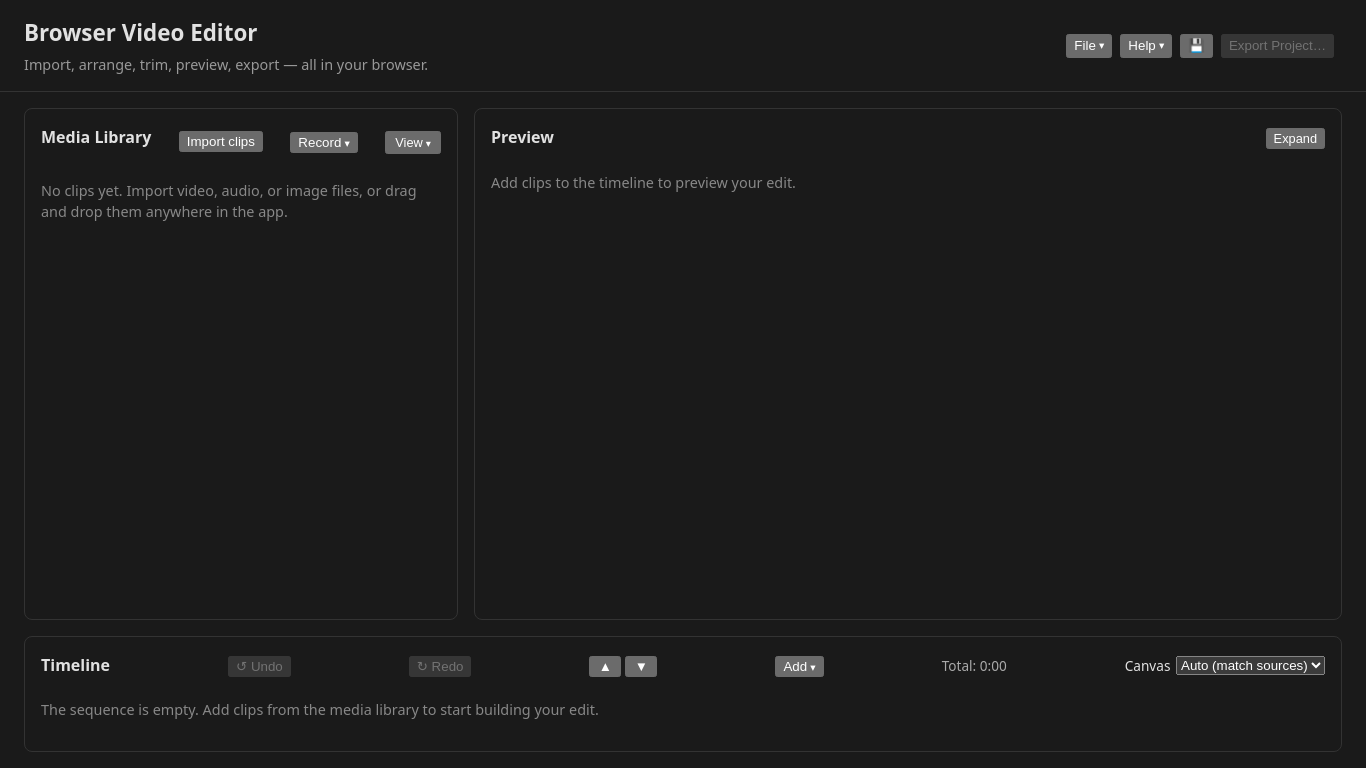
Test: settings dialog (#286) › dismisses with Escape and with a click outside, like the other dialogs
Step 1. Click the button "File ▾" → (1089, 46), box [1066,34,1112,58]
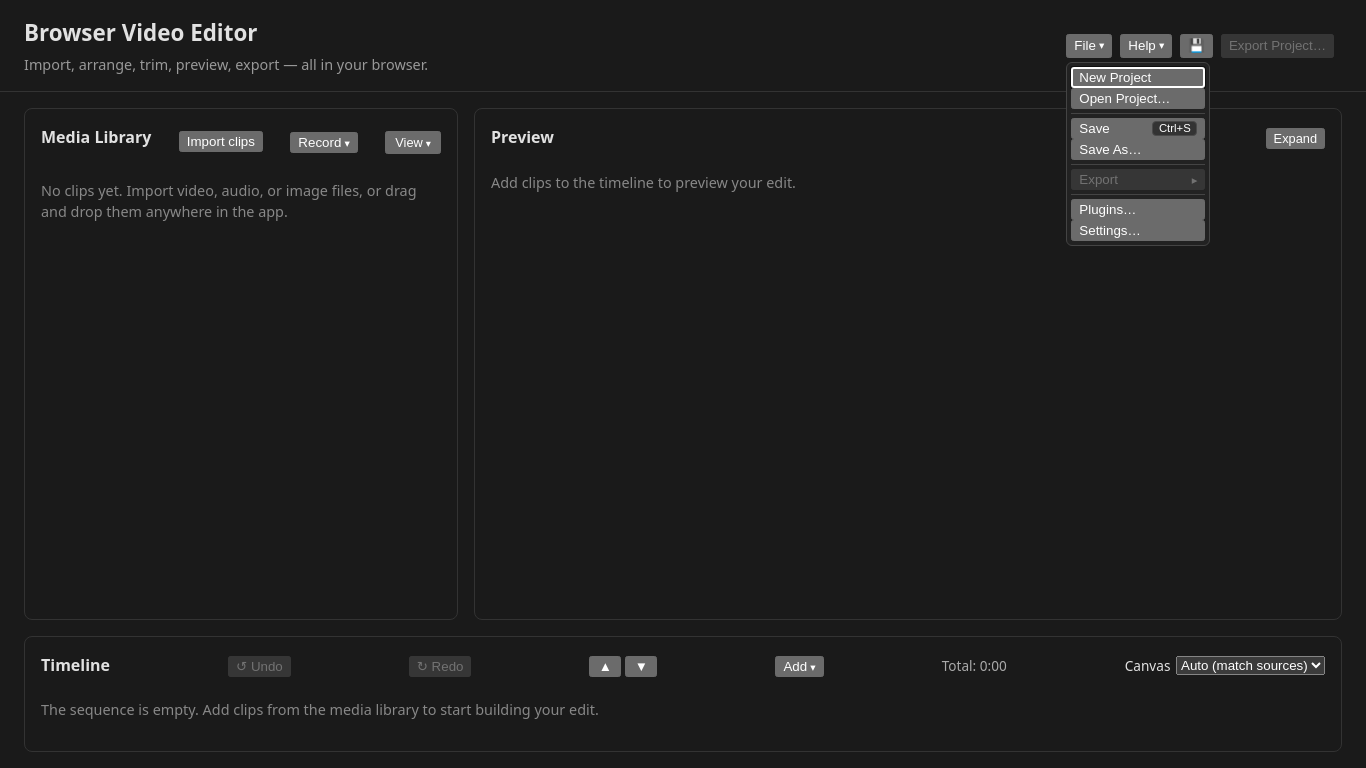
Step 2. Click the menu item "Settings…" → (1138, 231), box [1071,220,1205,241]
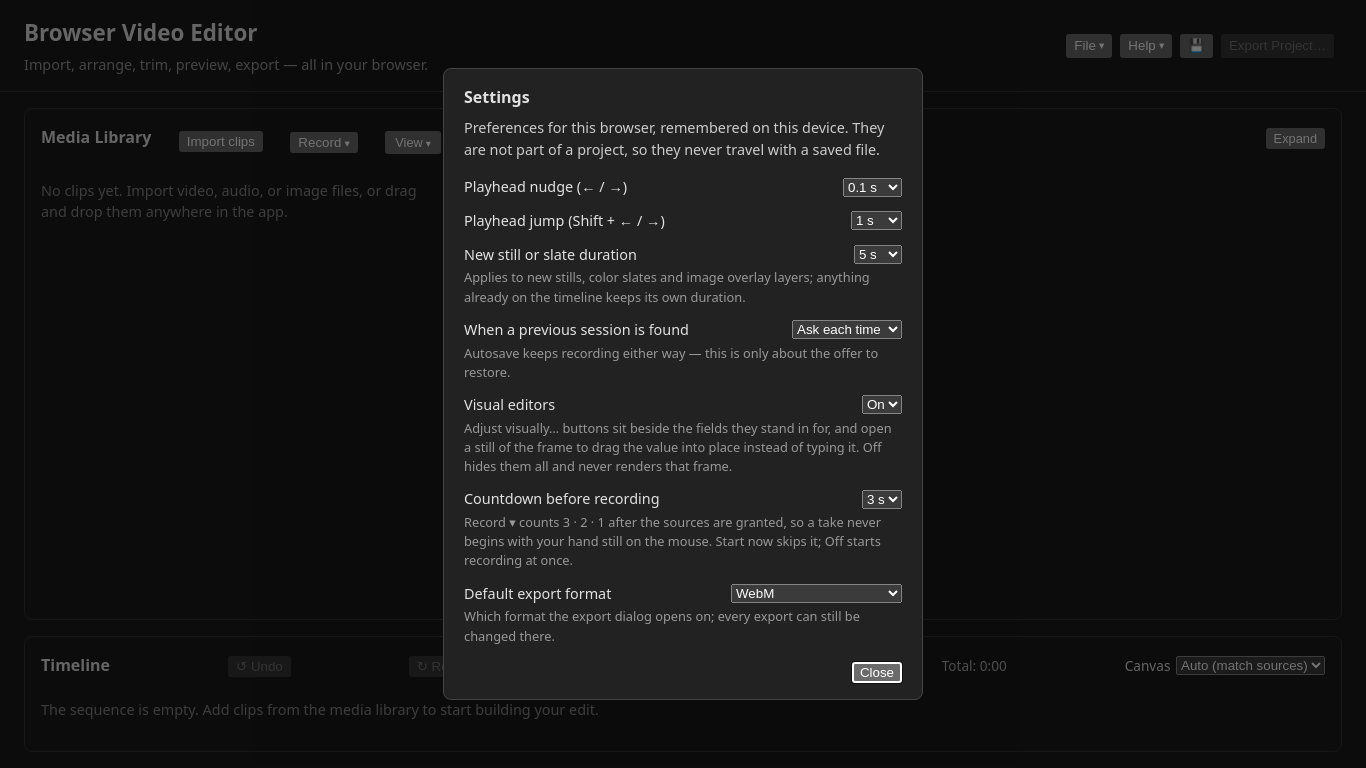
Step 3. Press Escape
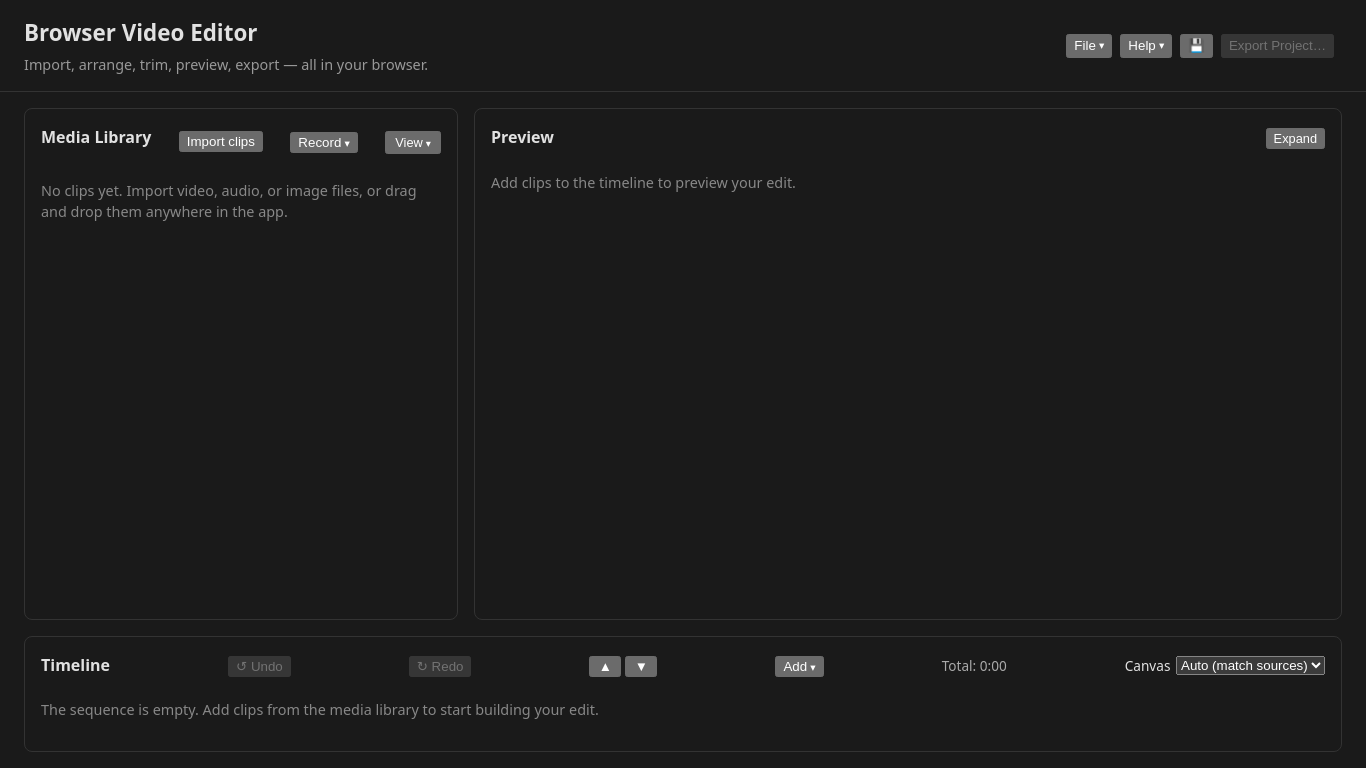
Expected: the heading "Settings" is gone
Step 4. Click the button "File ▾" → (1089, 46), box [1066,34,1112,58]
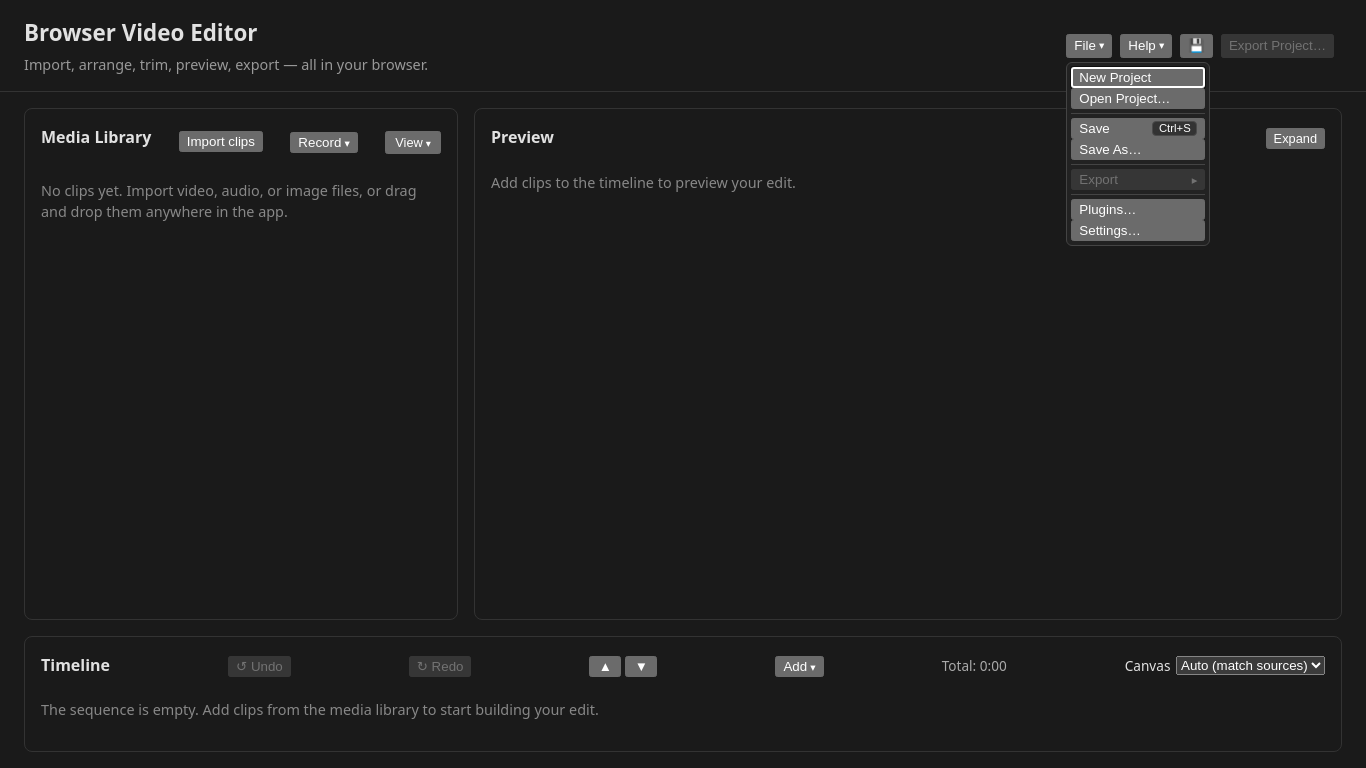
Step 5. Click the menu item "Settings…" → (1138, 231), box [1071,220,1205,241]
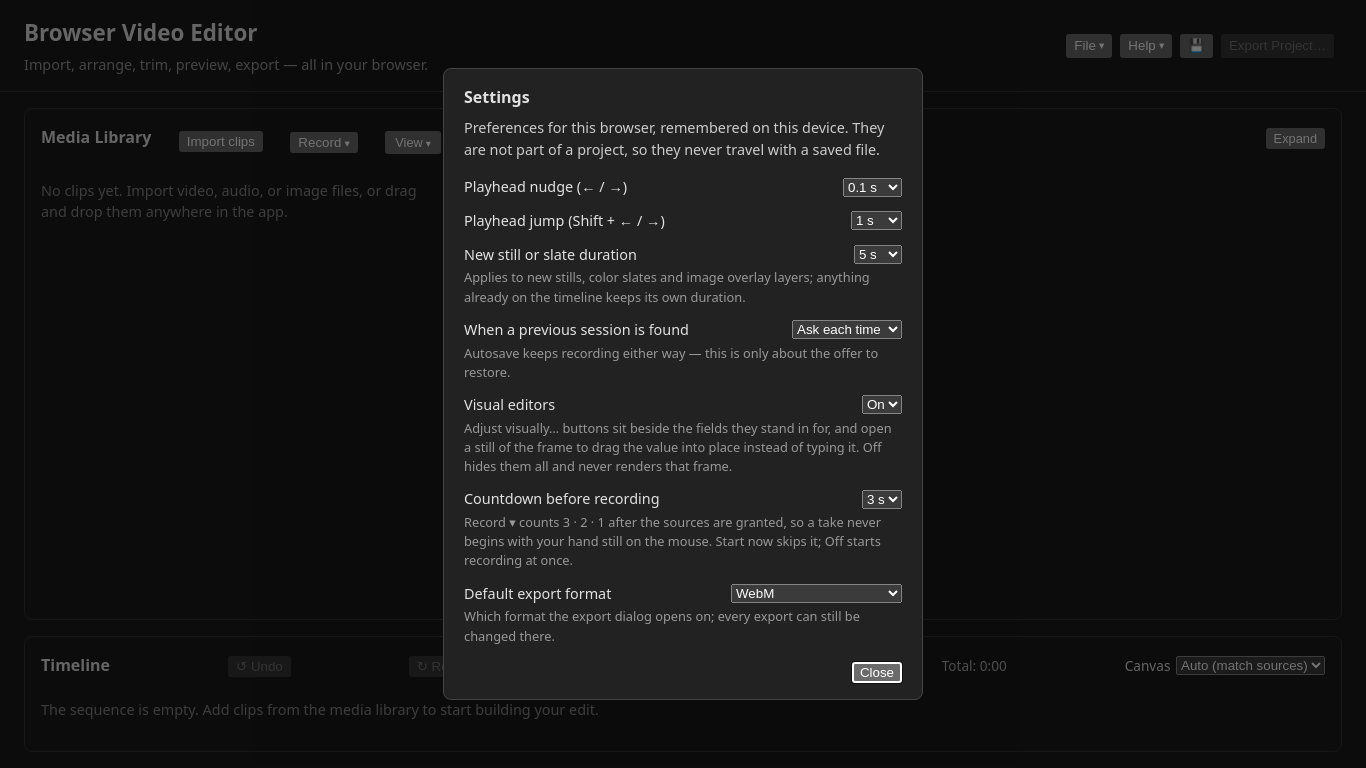
Step 6. Click the element with class "dialog-overlay" → (82, 384), box [0,0,1365,767]
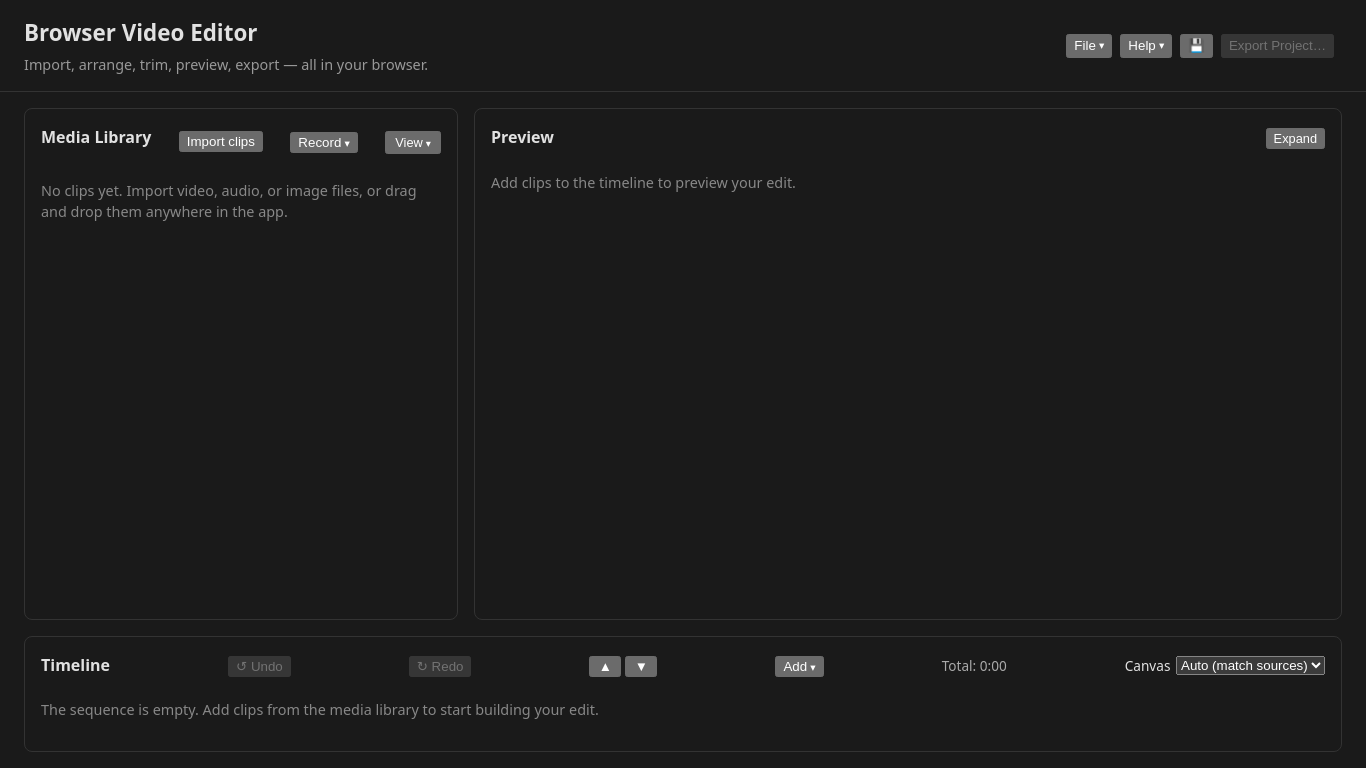
Expected: the heading "Settings" is gone
